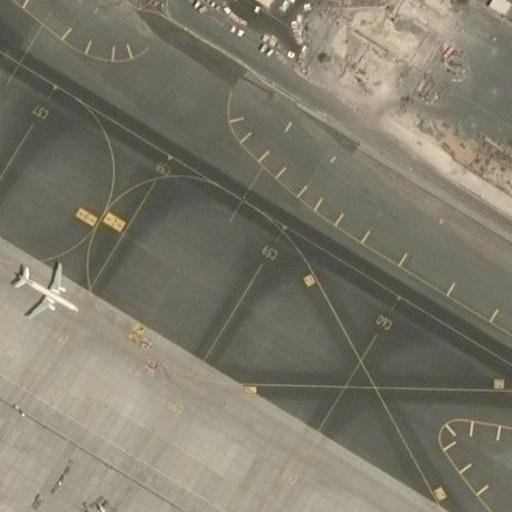Aircraft: (12, 251, 78, 319), (61, 499, 118, 512)
